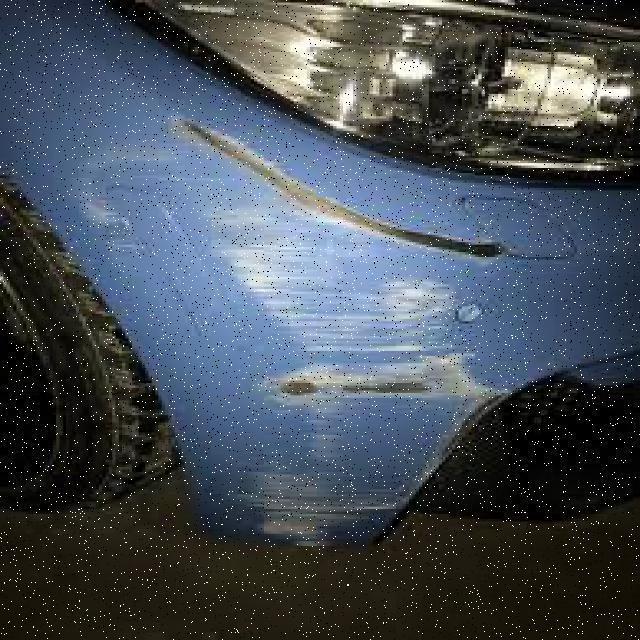front-bumper-dent: (20, 84, 598, 600)
